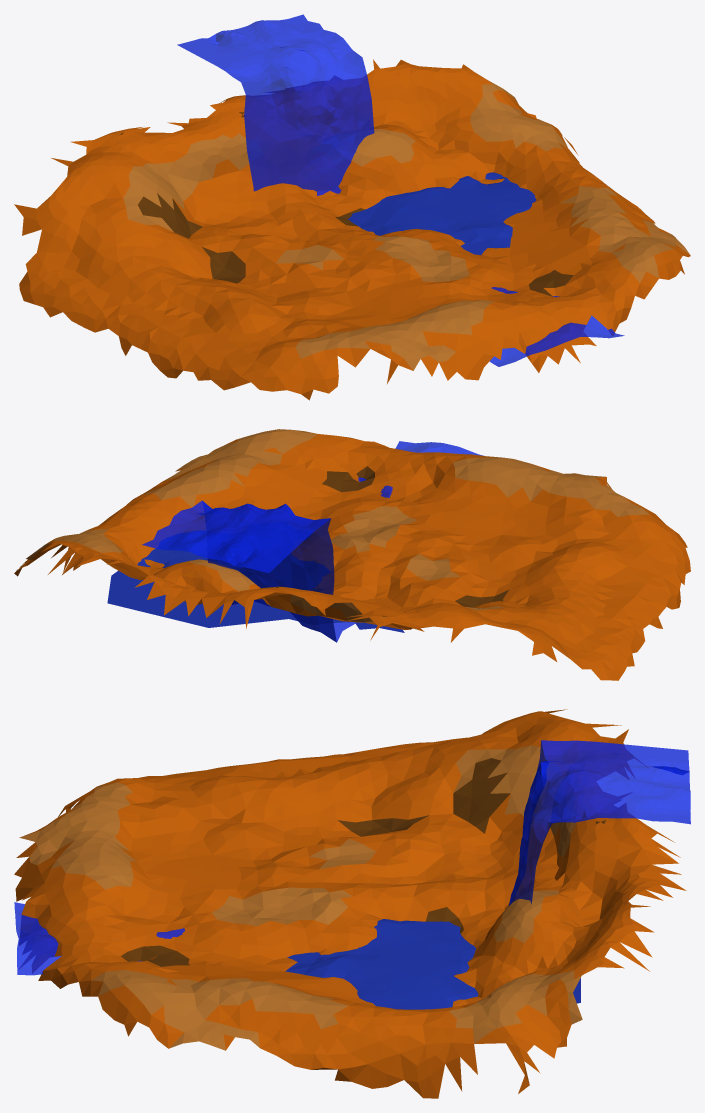
Rendered from LevelPack2Terrain.fbx.
The picture shows the model from 3 angles, top to bottom: view 1: azimuth 30°, elevation 25°; view 2: azimuth 150°, elevation 25°; view 3: azimuth 270°, elevation 25°; orthographic projection. The views are drawn at different scales.
Visible parts, largest first — view 1: Ground, Water, Plane; view 2: Ground, Water, Plane; view 3: Ground, Water, Plane.
Part boxes in pixels (box(x1,y1,x2,y2)): Ground: box(14, 59, 690, 400); Water: box(177, 14, 624, 366); Plane: box(347, 172, 536, 255); Ground: box(14, 429, 690, 680); Water: box(142, 441, 483, 642); Plane: box(107, 531, 404, 632); Ground: box(14, 709, 686, 1098); Water: box(14, 740, 690, 975); Plane: box(285, 919, 580, 1009).
Size of the model in its own units: 55157 by 15075 by 48077.
